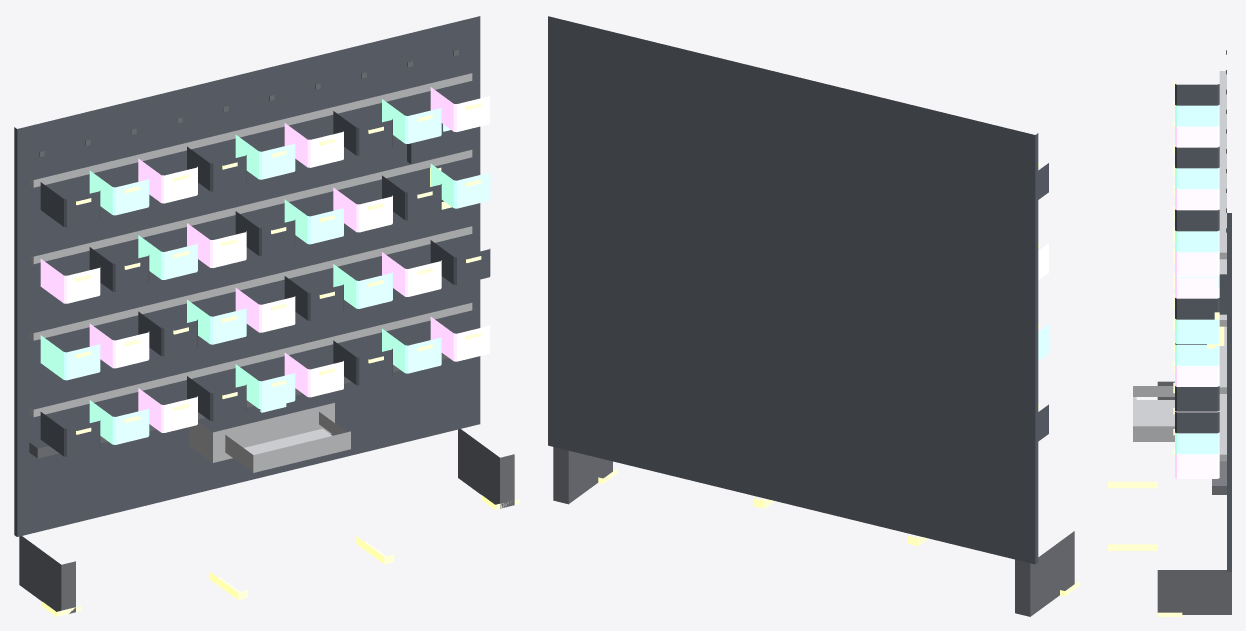
Rendered from iter_02.glb.
The picture shows the model from 3 angles, left to right: view 1: azimuth 30°, elevation 25°; view 2: azimuth 150°, elevation 25°; view 3: azimuth 270°, elevation 25°; orthographic projection. The views are drawn at different scales.
Parts seen in each view (by area): view 1: Back_Plate, Bins_slate, Bins_green, Bins_violet, Magnet_Rails, Feet, Bin_Shuttle, Pick_Tray, Bin_Latches, Request_Panel, Guide_Rails; view 2: Back_Plate, Feet; view 3: Bins_violet, Bins_green, Bins_slate, Feet, Magnet_Rails, Pick_Tray, Back_Plate, Guide_Rails, Bin_Latches, Shuttle_Rail, Request_Panel, Release_Lever.
Boxes of the visible parts, left/top/right/bottom form: Back_Plate: left=14, top=16, right=480, bottom=536; Bins_slate: left=40, top=111, right=490, bottom=456; Bins_green: left=40, top=99, right=490, bottom=444; Bins_violet: left=40, top=87, right=490, bottom=432; Magnet_Rails: left=29, top=73, right=472, bottom=417; Feet: left=19, top=429, right=514, bottom=613; Bin_Shuttle: left=189, top=402, right=334, bottom=462; Pick_Tray: left=225, top=412, right=350, bottom=472; Bin_Latches: left=76, top=103, right=481, bottom=434; Request_Panel: left=407, top=115, right=459, bottom=164; Guide_Rails: left=210, top=536, right=394, bottom=599; Back_Plate: left=548, top=16, right=1038, bottom=564; Feet: left=553, top=447, right=1074, bottom=616; Bins_violet: left=1175, top=126, right=1219, bottom=478; Bins_green: left=1175, top=105, right=1219, bottom=454; Bins_slate: left=1175, top=84, right=1219, bottom=433; Feet: left=1157, top=381, right=1231, bottom=614; Magnet_Rails: left=1219, top=71, right=1226, bottom=461; Pick_Tray: left=1133, top=386, right=1174, bottom=441; Back_Plate: left=1227, top=213, right=1231, bottom=571; Guide_Rails: left=1108, top=481, right=1157, bottom=550; Bin_Latches: left=1173, top=80, right=1174, bottom=456; Shuttle_Rail: left=1212, top=461, right=1226, bottom=494; Request_Panel: left=1219, top=274, right=1226, bottom=314; Release_Lever: left=1207, top=312, right=1224, bottom=348.
Bounding box in the file's own units: 1.9 × 1.8 × 0.5.
